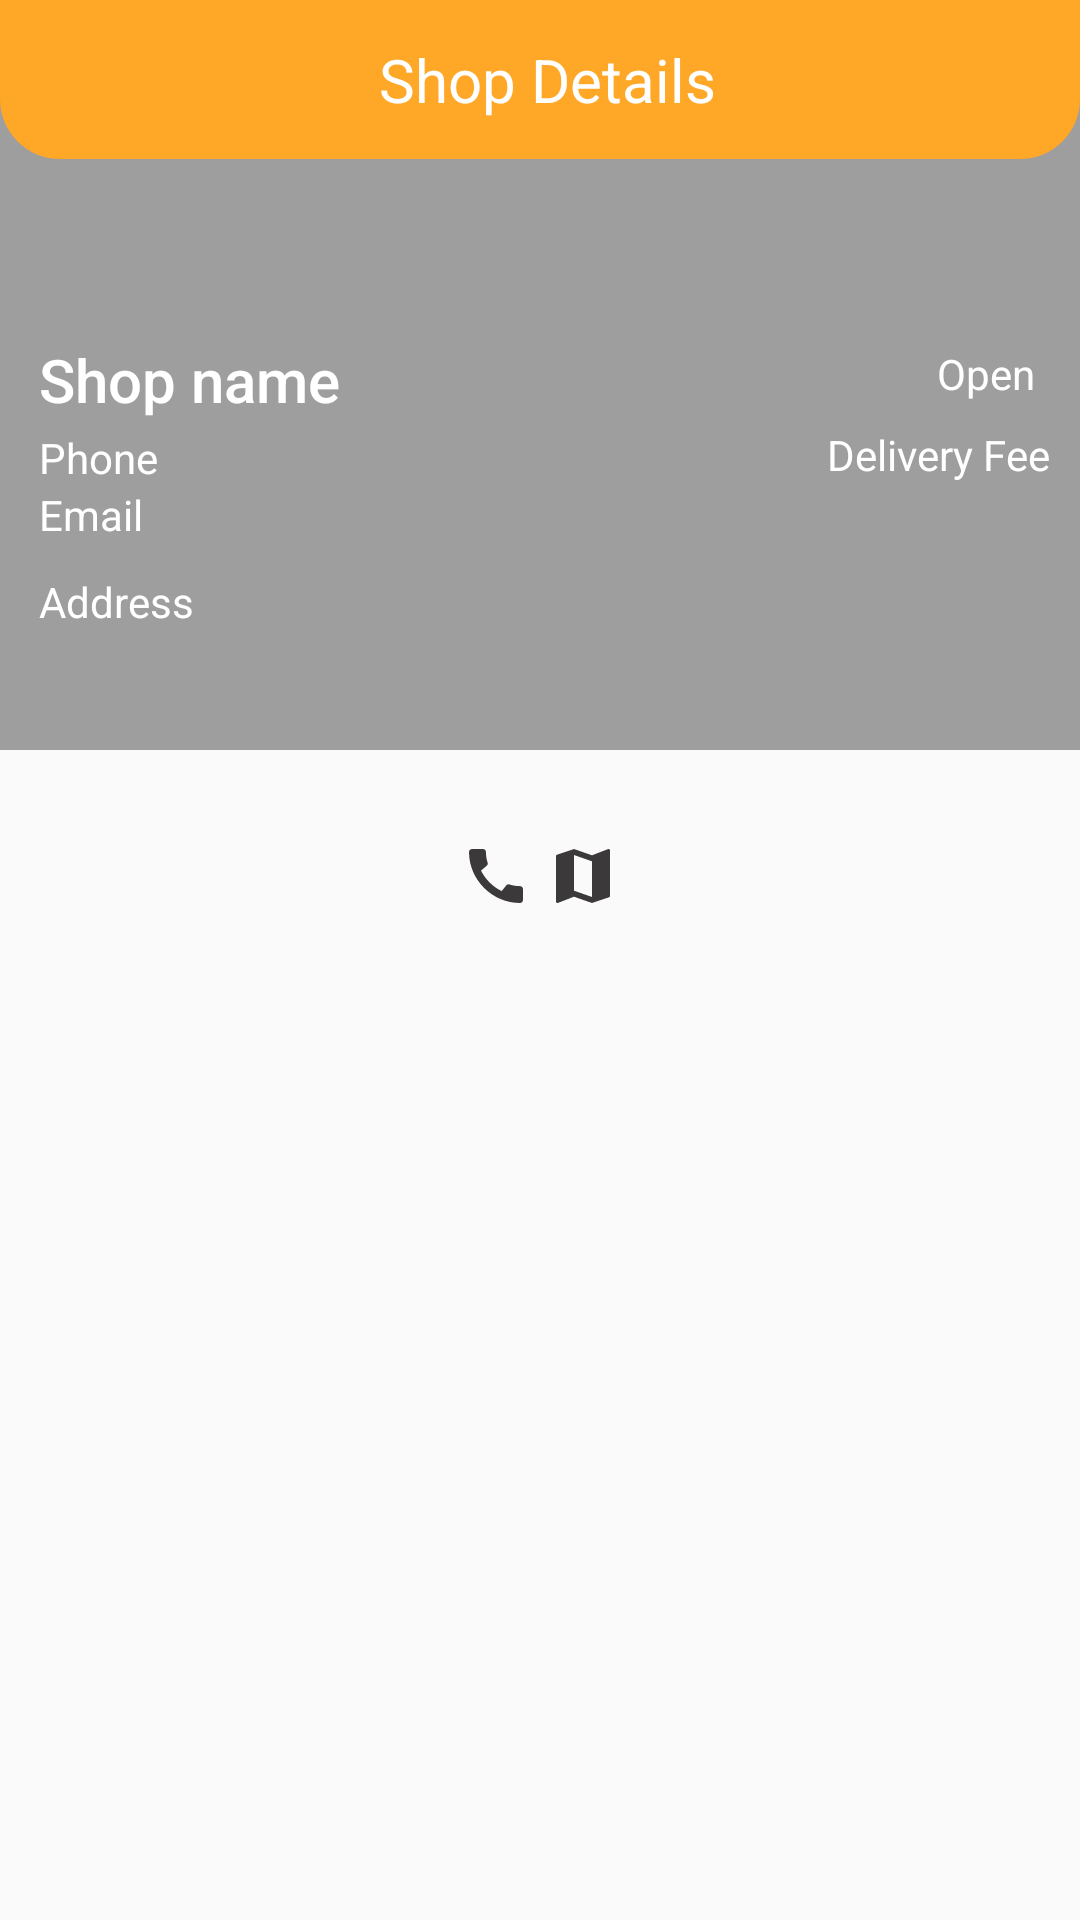

Locate icon controls on the screen. Image size 1080w x 1920h, boxes as (x1, y1, x2, y2).
call: (469, 849, 523, 903)
map: (556, 849, 610, 903)
